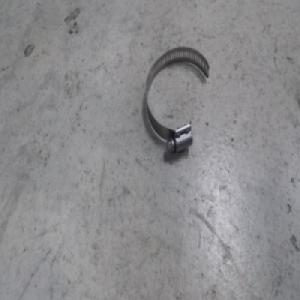AdjustableClamp: (141, 46, 211, 154)
